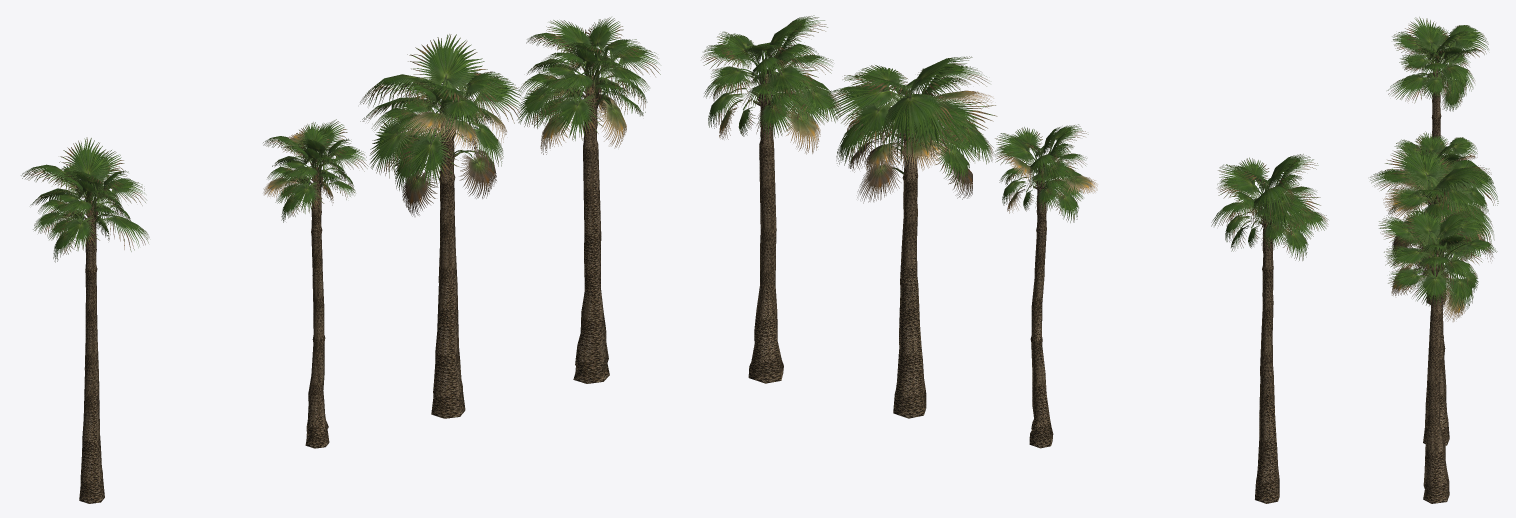
Rendered from WC_Palm_Washingtonia_Tree.obj.
The picture shows the model from 3 angles, left to right: view 1: azimuth 30°, elevation 25°; view 2: azimuth 150°, elevation 25°; view 3: azimuth 270°, elevation 25°; orthographic projection. The views are drawn at different scales.
Parts seen in each view (by area): view 1: WC_Palm_Washingtonia_Tree_01, WC_Palm_Washingtonia_Tree_05, WC_Palm_Washingtonia_Tree_02, WC_Palm_Washingtonia_Tree_03; view 2: WC_Palm_Washingtonia_Tree_01, WC_Palm_Washingtonia_Tree_05, WC_Palm_Washingtonia_Tree_02, WC_Palm_Washingtonia_Tree_03; view 3: WC_Palm_Washingtonia_Tree_05, WC_Palm_Washingtonia_Tree_01, WC_Palm_Washingtonia_Tree_02, WC_Palm_Washingtonia_Tree_03.
Part boxes in pixels (left/top/right/bottom): WC_Palm_Washingtonia_Tree_01: left=360, top=34, right=523, bottom=418; WC_Palm_Washingtonia_Tree_05: left=517, top=17, right=660, bottom=383; WC_Palm_Washingtonia_Tree_02: left=21, top=137, right=149, bottom=503; WC_Palm_Washingtonia_Tree_03: left=263, top=119, right=368, bottom=448; WC_Palm_Washingtonia_Tree_01: left=826, top=56, right=997, bottom=418; WC_Palm_Washingtonia_Tree_05: left=701, top=15, right=840, bottom=383; WC_Palm_Washingtonia_Tree_02: left=1211, top=154, right=1328, bottom=503; WC_Palm_Washingtonia_Tree_03: left=995, top=124, right=1097, bottom=448; WC_Palm_Washingtonia_Tree_05: left=1378, top=207, right=1497, bottom=503; WC_Palm_Washingtonia_Tree_01: left=1370, top=144, right=1498, bottom=445; WC_Palm_Washingtonia_Tree_02: left=1387, top=17, right=1488, bottom=304; WC_Palm_Washingtonia_Tree_03: left=1394, top=131, right=1477, bottom=355.
Size of the model in its own units: 35.46 by 18.85 by 8.51.
5 materials, 5 textured.
